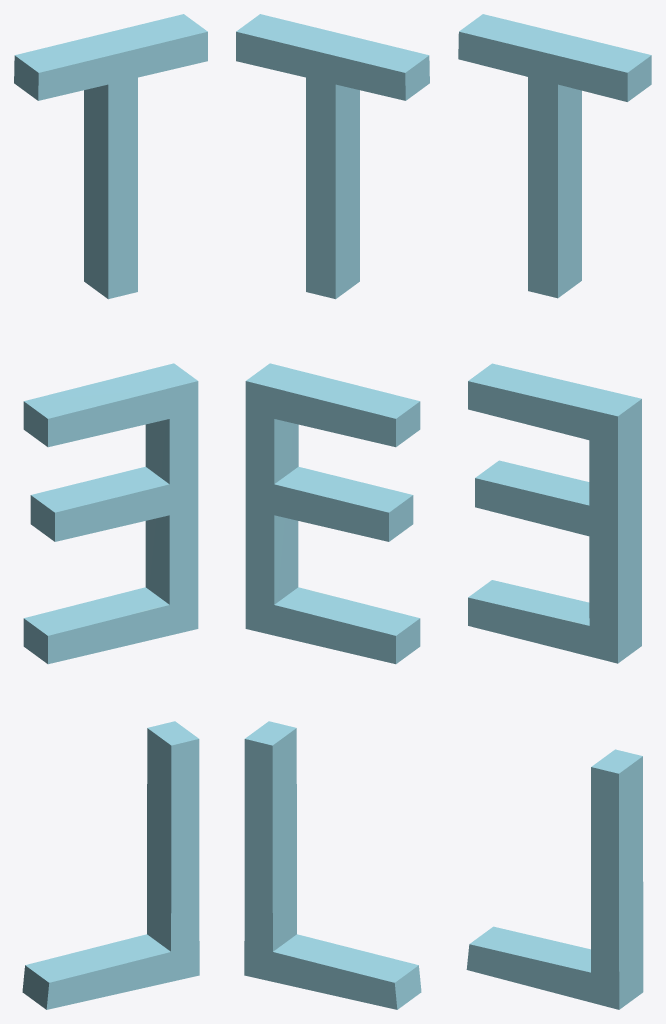
The model's file is Props-TextBanner-Motel_TEL.fbx.
The picture shows the model from 3 angles, left to right: view 1: azimuth 30°, elevation 25°; view 2: azimuth 150°, elevation 25°; view 3: azimuth 330°, elevation 25°; orthographic projection.
Parts seen in each view (by area): view 1: Props-TextBanner-Motel_TEL; view 2: Props-TextBanner-Motel_TEL; view 3: Props-TextBanner-Motel_TEL.
Part boxes in pixels (x1,y1,x2,y2): Props-TextBanner-Motel_TEL: [14, 14, 207, 1009]; Props-TextBanner-Motel_TEL: [236, 14, 429, 1009]; Props-TextBanner-Motel_TEL: [458, 14, 651, 1009].
Bounding box in the file's own units: 19.86 × 105 × 4.89.
